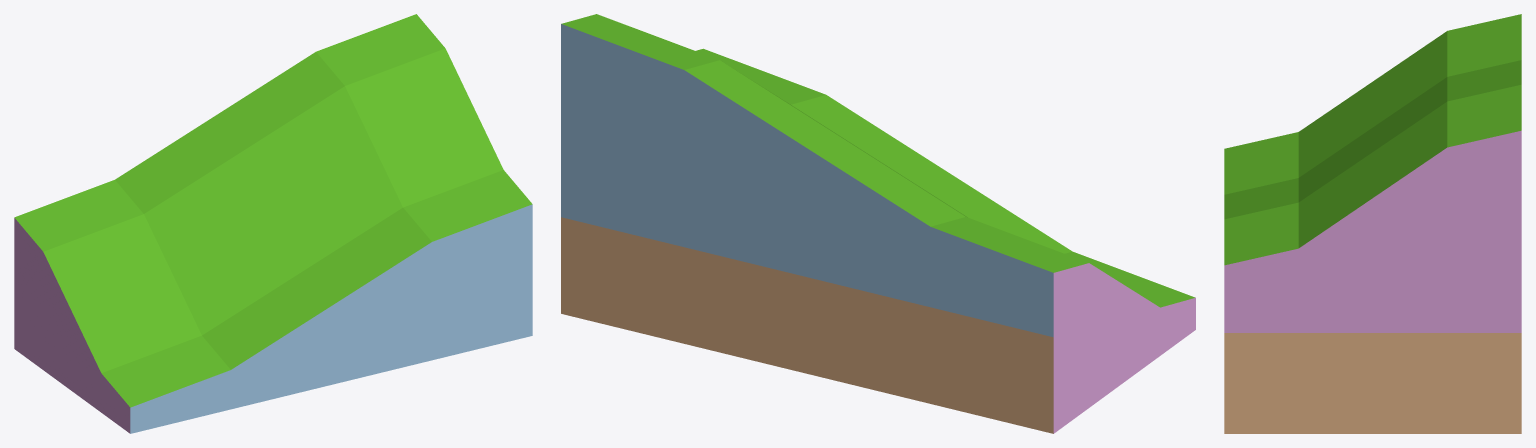
The model's file is Grass_Hill_Gentle_Overlapping_Sharp_2x4.glb.
3 renders of one model, left to right at view 1: azimuth 30°, elevation 25°; view 2: azimuth 150°, elevation 25°; view 3: azimuth 270°, elevation 25°, orthographic. The views are drawn at different scales.
Visible parts, largest first — view 1: Grass_Hill_Gentle_Overlapping_Sharp_2x4; view 2: Grass_Hill_Gentle_Overlapping_Sharp_2x4; view 3: Grass_Hill_Gentle_Overlapping_Sharp_2x4.
Part boxes in pixels (left/top/right/bottom): Grass_Hill_Gentle_Overlapping_Sharp_2x4: left=14, top=14, right=532, bottom=433; Grass_Hill_Gentle_Overlapping_Sharp_2x4: left=561, top=14, right=1195, bottom=433; Grass_Hill_Gentle_Overlapping_Sharp_2x4: left=1224, top=14, right=1521, bottom=433.
Bounding box in the file's own units: 400 × 225 × 200.
